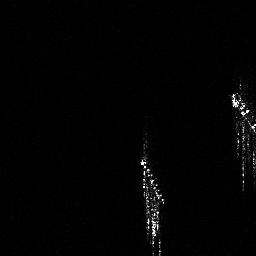ship: (137, 138, 168, 256), (228, 86, 256, 196)
